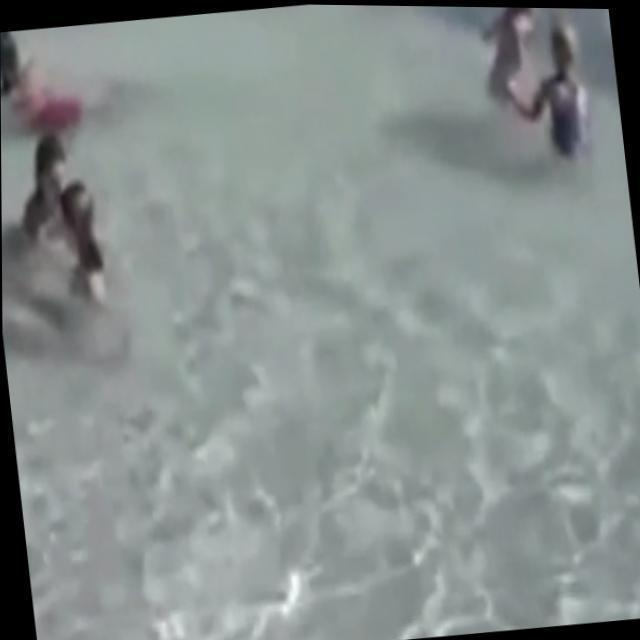swimming: (1, 142, 159, 384), (482, 2, 608, 184), (0, 30, 113, 128)
